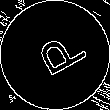P_SW: (24, 26, 86, 84)
